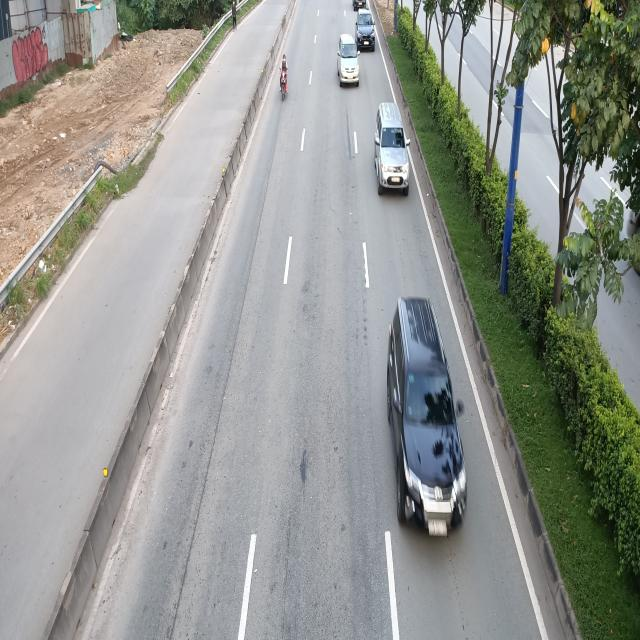car: (386, 298, 466, 540), (374, 104, 410, 194), (337, 34, 359, 88), (355, 9, 375, 51)
